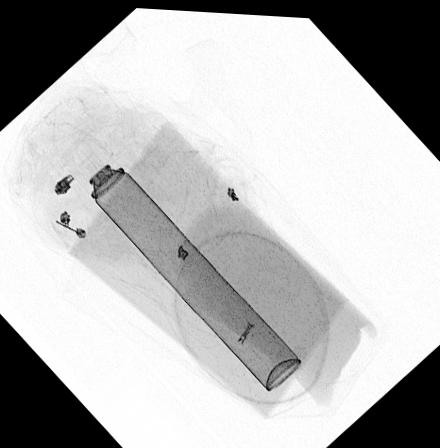Sprayer: (58, 134, 301, 388)
